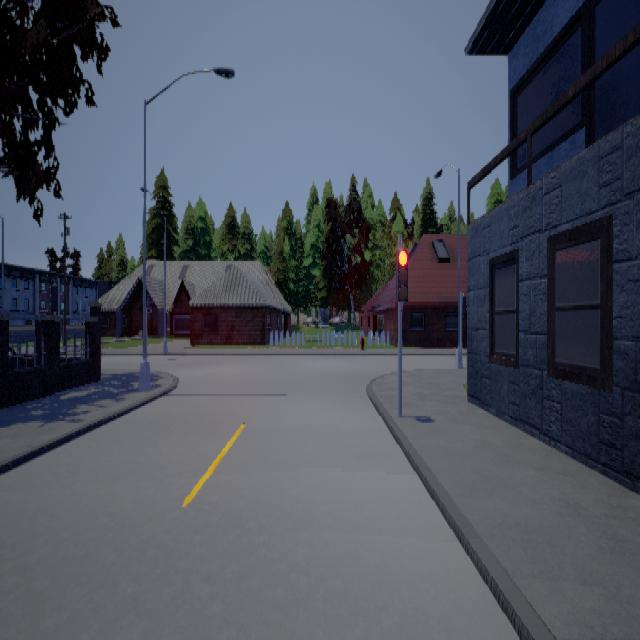red_light: (395, 237, 407, 310)
